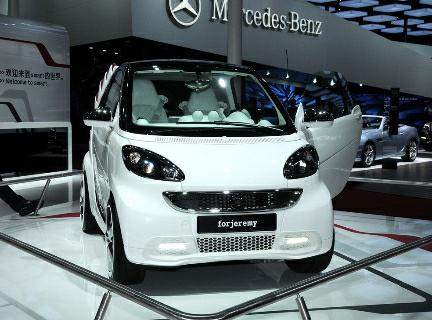smart-forjeremy: (77, 80, 351, 286)
